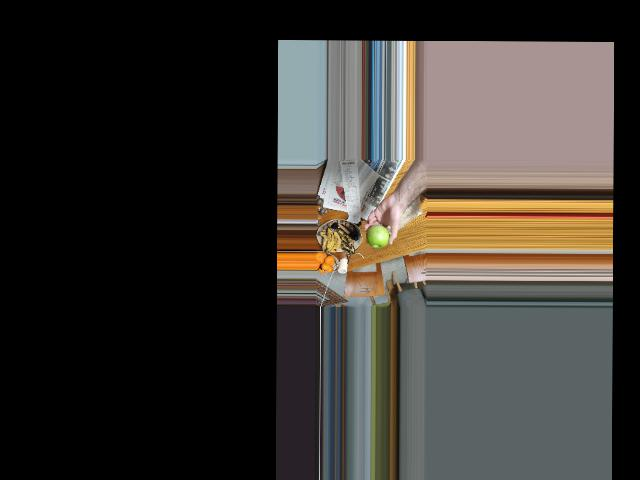apple: (369, 224, 391, 248)
